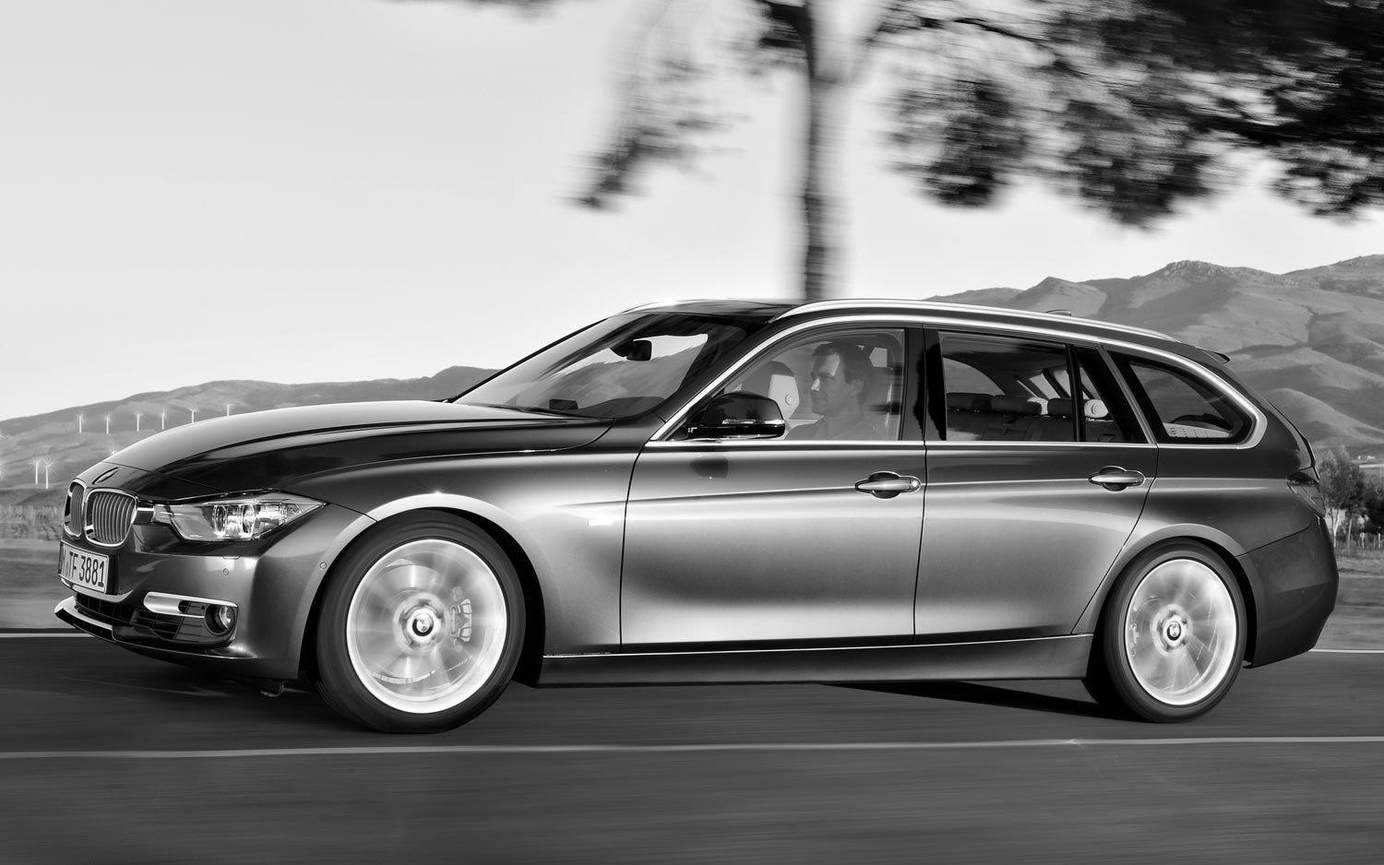car: (57, 293, 1342, 741)
